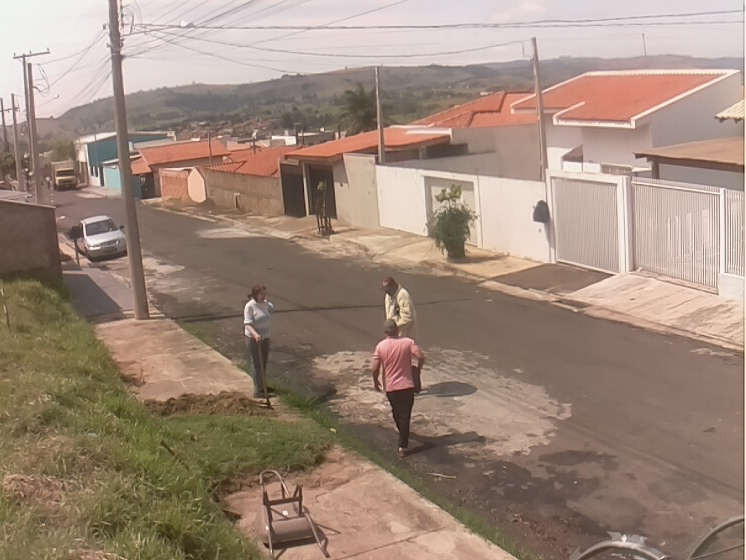person: (371, 319, 425, 458), (243, 285, 279, 399), (382, 277, 416, 340)
